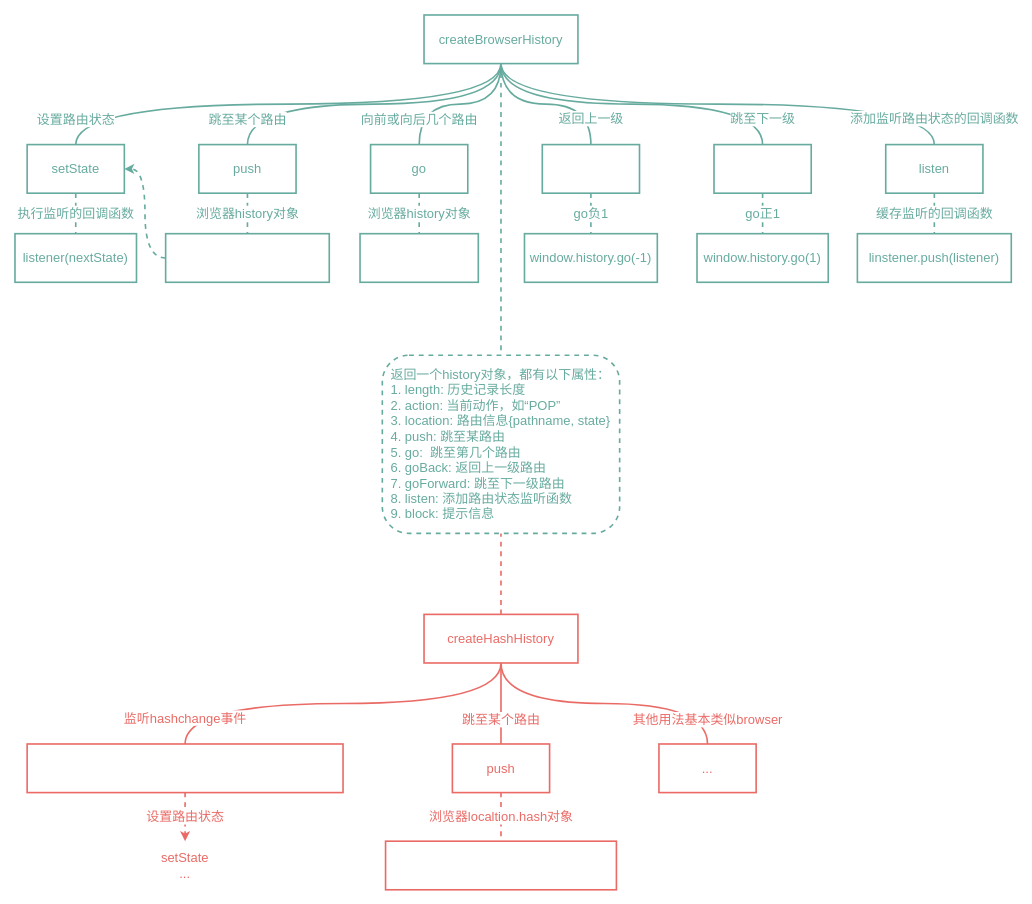
Some shapes in this 1032 by 904 pixel diagram are drawn without their labels. The shapes that lost their labels are listed below. From the top down, each one's centre as x and y in pixels, then its label:
the point at 590,168: back
the point at 762,168: forward
the point at 247,257: window.history.pushState
the point at 419,257: window.history.go
the point at 184,768: window.addEventListener('hashchange', handle)
the point at 500,865: window.localtion.hash = pathname
